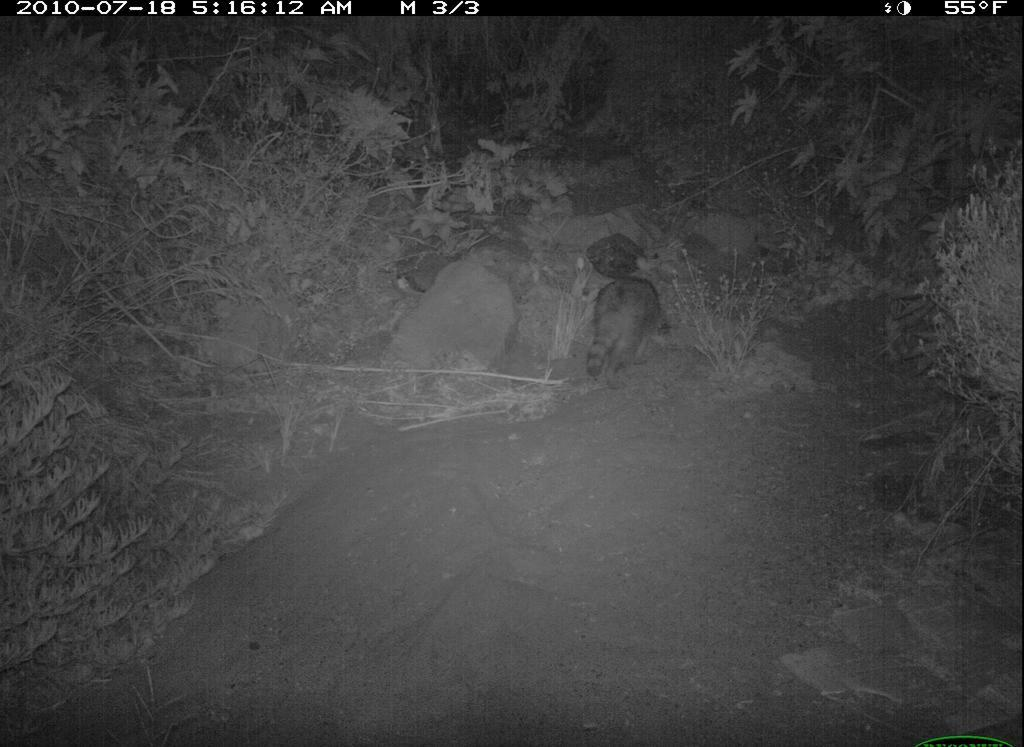raccoon: (575, 253, 684, 405)
